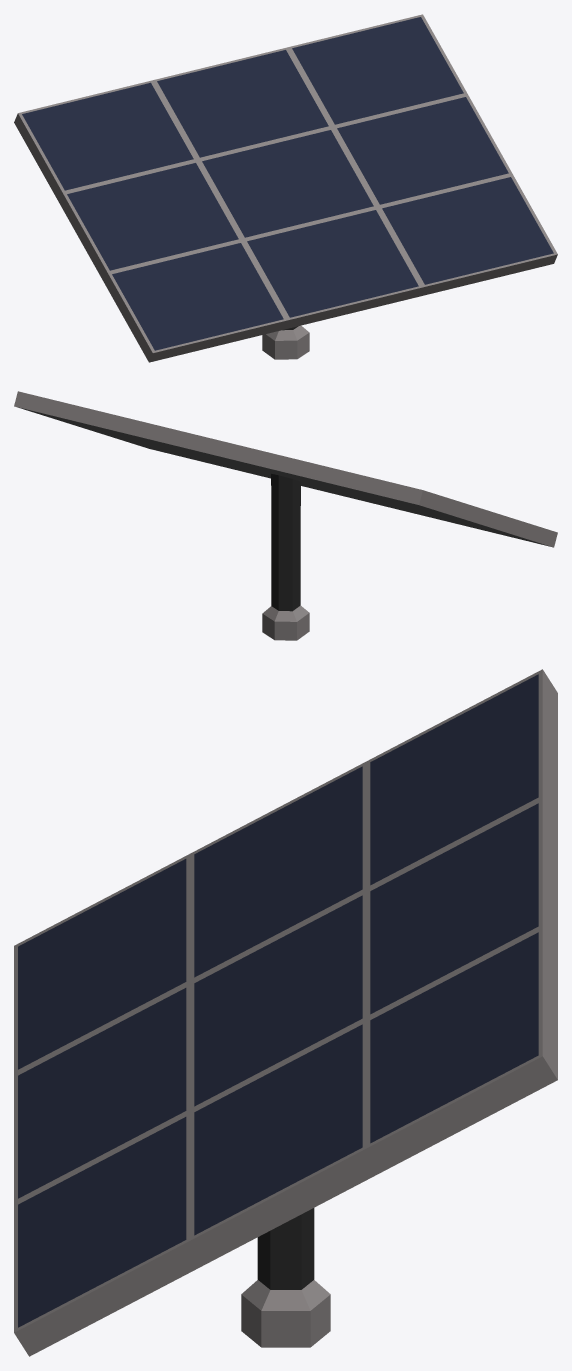
Rendered from props_solar-panel.fbx.
The picture shows the model from 3 angles, top to bottom: view 1: azimuth 30°, elevation 25°; view 2: azimuth 150°, elevation 25°; view 3: azimuth 270°, elevation 25°; orthographic projection. The views are drawn at different scales.
Visible parts, largest first — view 1: props_solar_panel; view 2: props_solar_panel; view 3: props_solar_panel.
Part boxes in pixels (bbox=[...]): props_solar_panel: bbox=[14, 14, 557, 362]; props_solar_panel: bbox=[14, 391, 557, 640]; props_solar_panel: bbox=[14, 669, 557, 1356].
Bounding box in the file's own units: 200 × 113 × 119.
